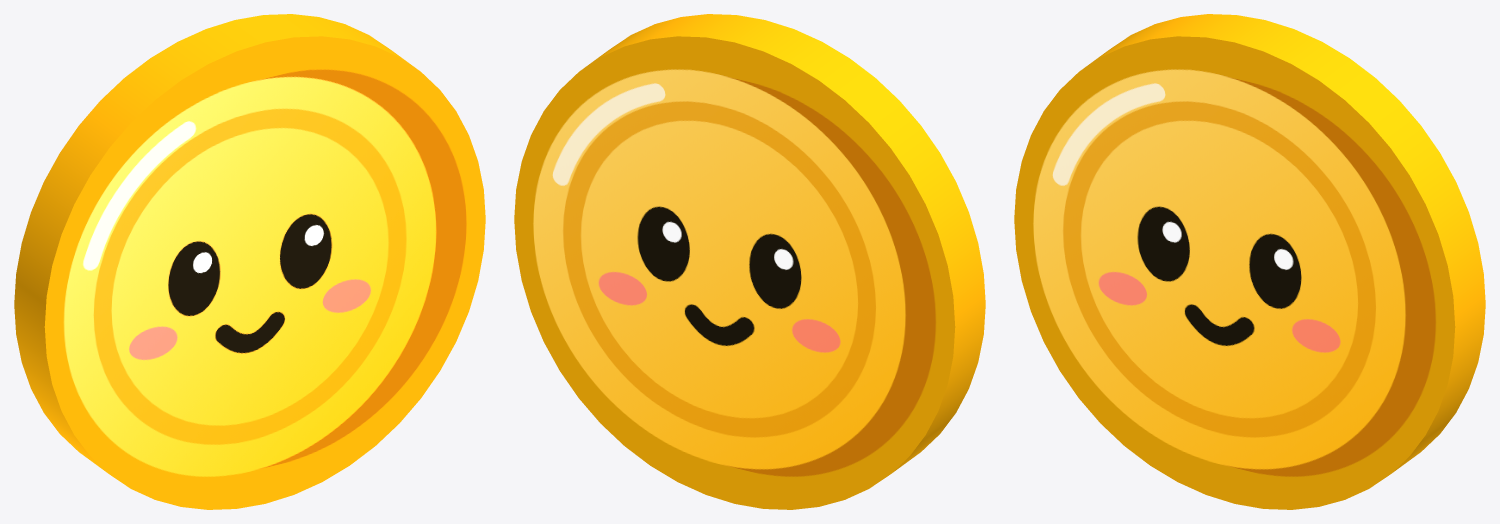
The model's file is collectible.glb.
3 views of the same model, side by side, from view 1: azimuth 30°, elevation 25°; view 2: azimuth 150°, elevation 25°; view 3: azimuth 330°, elevation 25° (orthographic).
Visible parts, largest first — view 1: brand_coin; view 2: brand_coin; view 3: brand_coin.
Boxes of the visible parts, <box> form: brand_coin: <box>14,14,485,509</box>; brand_coin: <box>514,14,985,509</box>; brand_coin: <box>1014,14,1485,509</box>.
Bounding box in the file's own units: 1 × 1 × 0.12.
Materials: 2 (1 with a texture image).
